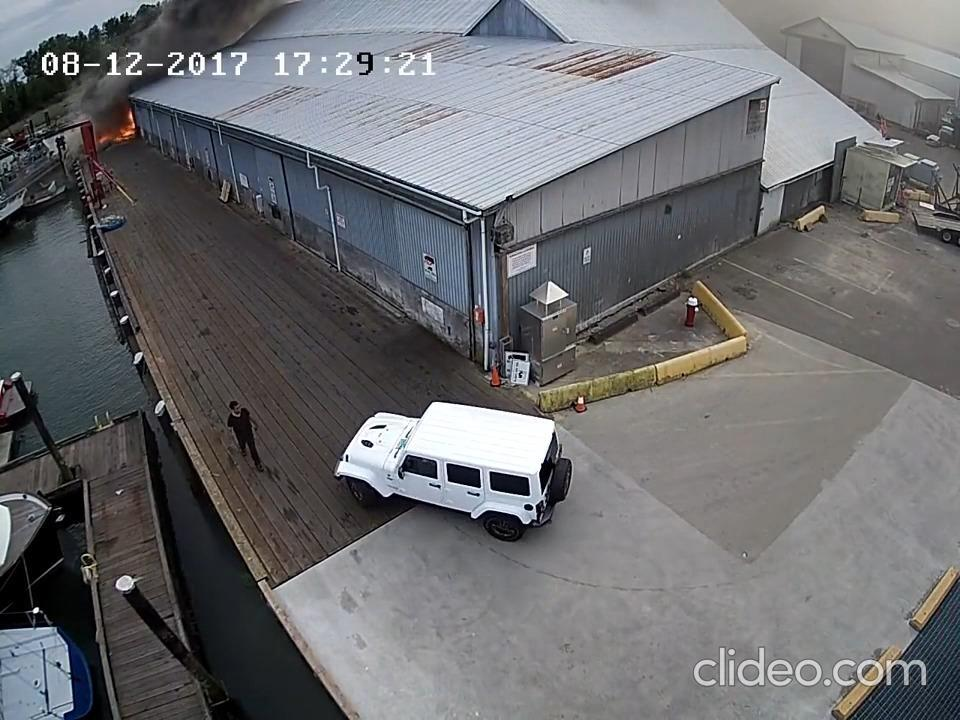fire: (97, 104, 137, 143)
